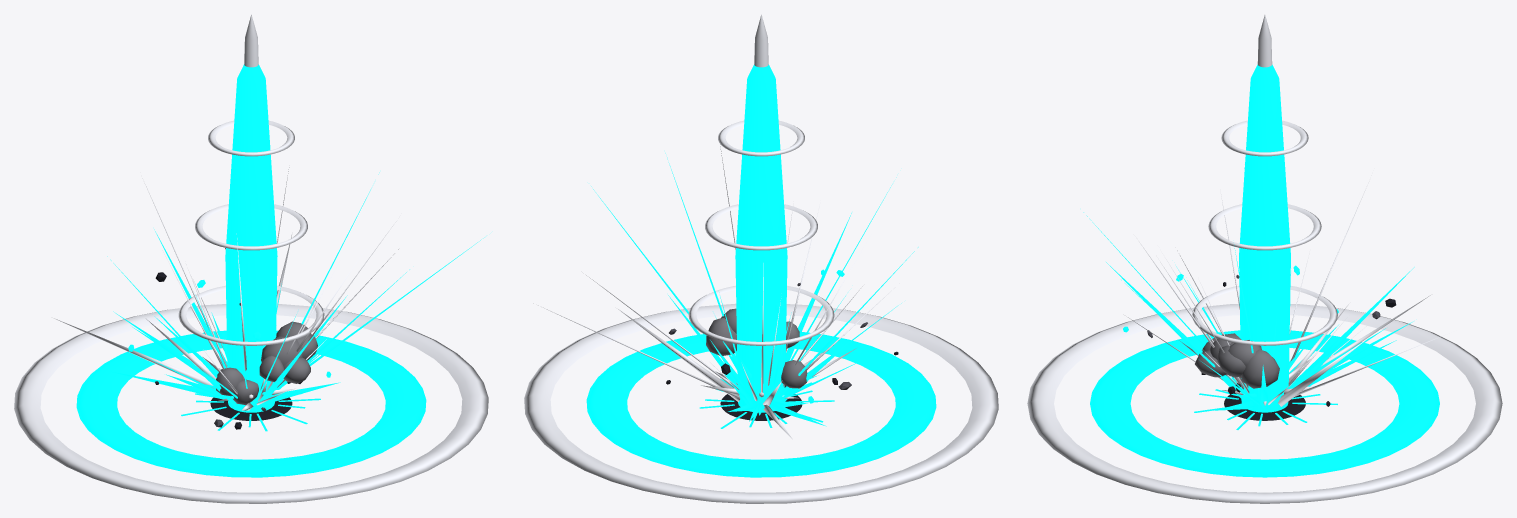
The model's file is OrbitalLauncher_Impact.fbx.
3 views of the same model, side by side, from view 1: azimuth 30°, elevation 25°; view 2: azimuth 150°, elevation 25°; view 3: azimuth 270°, elevation 25° (orthographic).
Visible parts, largest first — view 1: Imp_Onda_ene, Imp_Flash_ene, Imp_Chispas_ene, Imp_Humo_ene, Imp_Crater_ene; view 2: Imp_Onda_ene, Imp_Flash_ene, Imp_Chispas_ene, Imp_Humo_ene, Imp_Crater_ene; view 3: Imp_Onda_ene, Imp_Flash_ene, Imp_Chispas_ene, Imp_Humo_ene, Imp_Crater_ene.
Part boxes in pixels (x1,y1,x2,y2): Imp_Onda_ene: (14,120,488,503); Imp_Flash_ene: (203,14,295,412); Imp_Chispas_ene: (54,167,484,410); Imp_Humo_ene: (216,321,317,404); Imp_Crater_ene: (181,393,320,431); Imp_Onda_ene: (524,120,998,503); Imp_Flash_ene: (701,14,824,412); Imp_Chispas_ene: (533,144,918,439); Imp_Humo_ene: (706,308,807,388); Imp_Crater_ene: (699,378,834,428); Imp_Onda_ene: (1027,120,1502,503); Imp_Flash_ene: (1222,15,1325,412); Imp_Chispas_ene: (1083,168,1449,410); Imp_Humo_ene: (1195,333,1279,388); Imp_Crater_ene: (1194,386,1337,429).
Bounding box in the file's own units: 51.43 × 46.04 × 50.89.
